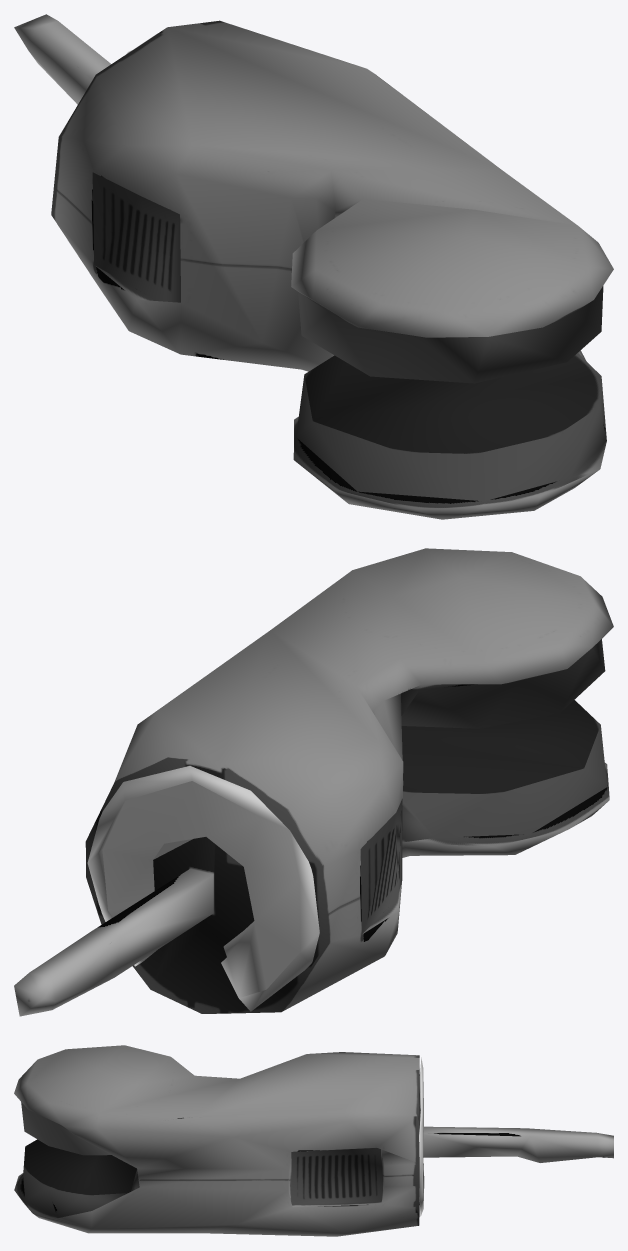
Rendered from r_upper_arm_roll_link.OBJ.
3 views of the same model, one above another, from view 1: azimuth 30°, elevation 25°; view 2: azimuth 150°, elevation 25°; view 3: azimuth 270°, elevation 25° (orthographic). The views are drawn at different scales.
Parts seen in each view (by area): view 1: /ambf/env/pr2/r_upper_arm_roll_link_/ambf/env/pr2/r_upper_arm_ro; view 2: /ambf/env/pr2/r_upper_arm_roll_link_/ambf/env/pr2/r_upper_arm_ro; view 3: /ambf/env/pr2/r_upper_arm_roll_link_/ambf/env/pr2/r_upper_arm_ro.
Boxes of the visible parts, x1,y1,x2,y2 form: /ambf/env/pr2/r_upper_arm_roll_link_/ambf/env/pr2/r_upper_arm_ro: [14, 14, 613, 519]; /ambf/env/pr2/r_upper_arm_roll_link_/ambf/env/pr2/r_upper_arm_ro: [14, 548, 613, 1016]; /ambf/env/pr2/r_upper_arm_roll_link_/ambf/env/pr2/r_upper_arm_ro: [14, 1045, 613, 1236].
Size of the model in its own units: 0.1685 by 0.1523 by 0.536.
